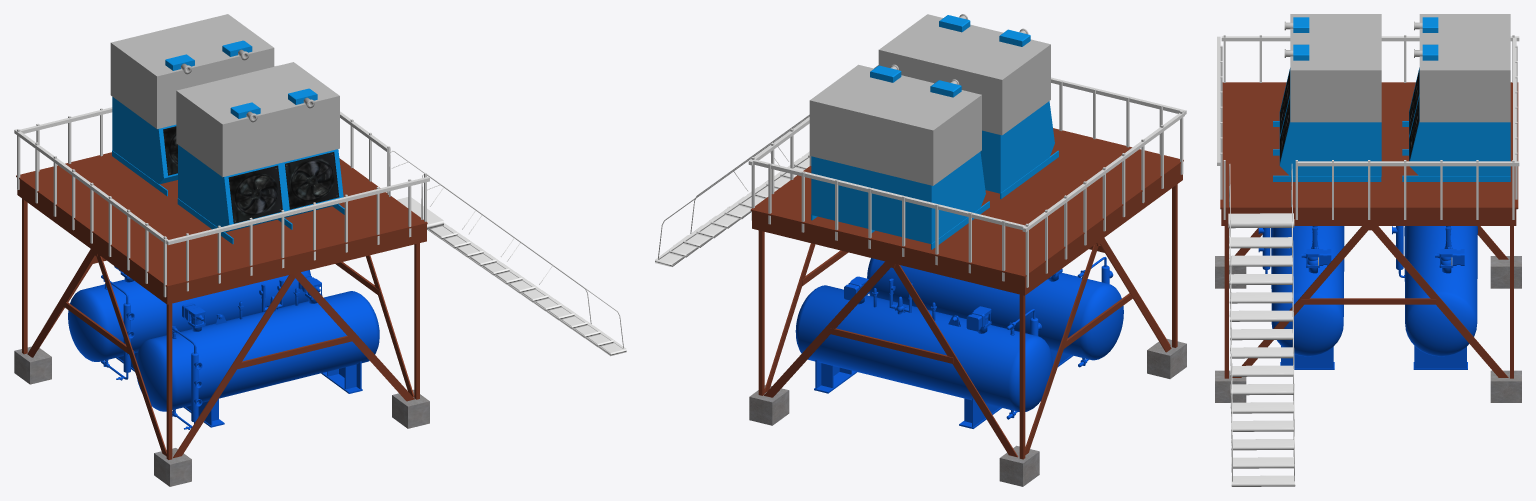
File: cтойка.с.рес.амм.и.конденс.fbx
3 views of the same model, side by side, from view 1: azimuth 30°, elevation 25°; view 2: azimuth 150°, elevation 25°; view 3: azimuth 270°, elevation 25° (orthographic). The views are drawn at different scales.
Parts seen in each view (by area): view 1: Cube, Cube.026, Sphere.002, Cube.069, Sphere.005, Cube.027, stairsLower, Cube.044, Cube.031, Cube.048, Cube.028, Cube.045 (+10 smaller); view 2: Cube.069, Cube.026, Sphere.005, Cube, Sphere.002, Cube.030, Cube.044, Cube.031, Cube.028, Cube.048, stairsLower, Cube.046 (+10 smaller); view 3: Cube.026, Cube, Cube.069, stairsLower, Sphere.005, Sphere.002, Cube.029, Cube.044, Cube.047, Cube.048, Cube.038, Cube.031 (+10 smaller).
Part boxes in pixels (x1=…): Cube: x1=176, y1=62, x2=343, y2=232; Cube.026: x1=16, y1=152, x2=427, y2=287; Sphere.002: x1=136, y1=291, x2=379, y2=411; Cube.069: x1=110, y1=14, x2=274, y2=184; Sphere.005: x1=68, y1=270, x2=310, y2=361; Cube.027: x1=166, y1=224, x2=426, y2=304; stairsLower: x1=429, y1=223, x2=626, y2=356; Cube.044: x1=14, y1=346, x2=429, y2=486; Cube.031: x1=22, y1=198, x2=419, y2=459; Cube.048: x1=17, y1=119, x2=426, y2=297; Cube.028: x1=17, y1=180, x2=165, y2=303; Cube.045: x1=16, y1=107, x2=429, y2=244; Cube.069: x1=809, y1=64, x2=985, y2=244; Cube.026: x1=750, y1=128, x2=1183, y2=277; Sphere.005: x1=795, y1=285, x2=1052, y2=411; Cube: x1=878, y1=14, x2=1054, y2=193; Sphere.002: x1=867, y1=258, x2=1123, y2=360; Cube.030: x1=752, y1=211, x2=1024, y2=295; Cube.044: x1=749, y1=339, x2=1186, y2=486; Cube.031: x1=758, y1=184, x2=1177, y2=459; Cube.028: x1=1025, y1=164, x2=1181, y2=295; Cube.048: x1=751, y1=110, x2=1183, y2=287; stairsLower: x1=655, y1=151, x2=809, y2=266; Cube.046: x1=768, y1=80, x2=1162, y2=281; Cube.026: x1=1220, y1=82, x2=1518, y2=208; Cube: x1=1279, y1=14, x2=1381, y2=176; Cube.069: x1=1409, y1=14, x2=1510, y2=175; stairsLower: x1=1229, y1=237, x2=1295, y2=486; Sphere.005: x1=1404, y1=226, x2=1477, y2=356; Sphere.002: x1=1271, y1=226, x2=1344, y2=356; Cube.029: x1=1224, y1=209, x2=1515, y2=225; Cube.044: x1=1215, y1=256, x2=1521, y2=402; Cube.047: x1=1221, y1=36, x2=1519, y2=166; Cube.048: x1=1223, y1=35, x2=1514, y2=219; Cube.038: x1=1372, y1=226, x2=1508, y2=377; Cube.031: x1=1224, y1=226, x2=1513, y2=378.
Size of the model in its own units: 1474 by 960 by 852.
Materials: 7 (2 with a texture image).
